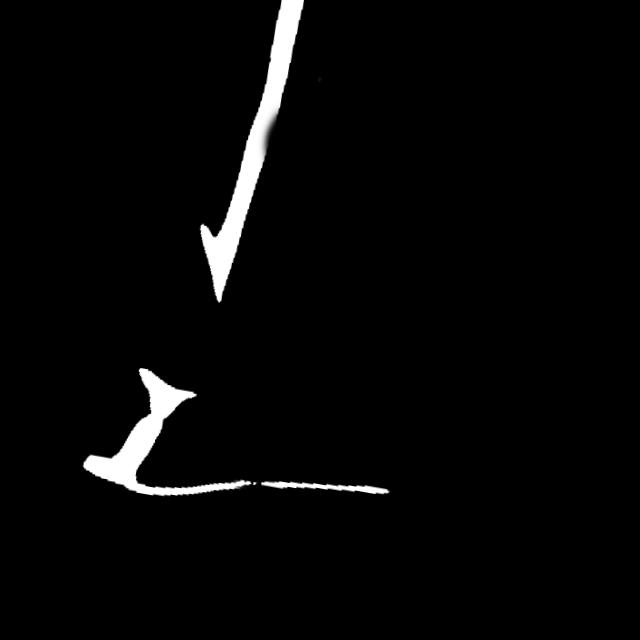inf: (235, 472, 267, 498)
